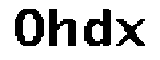0: (10, 6, 46, 49)
d: (82, 7, 114, 52)
h: (48, 7, 81, 48)
x: (113, 16, 147, 51)
